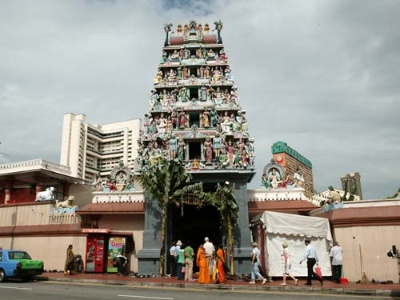gopura: (129, 17, 273, 182)
